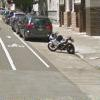Motorcycle: (41, 30, 81, 53)
